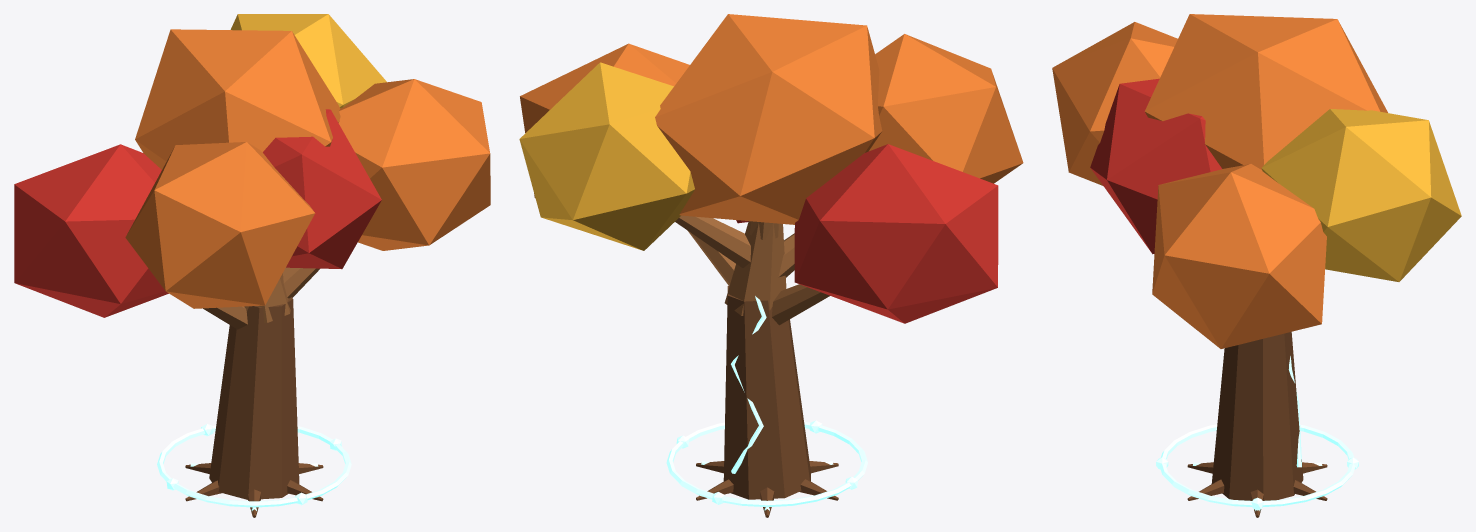
File: mature.glb
3 renders of one model, left to right at view 1: azimuth 30°, elevation 25°; view 2: azimuth 150°, elevation 25°; view 3: azimuth 270°, elevation 25°, orthographic. The views are drawn at different scales.
Visible parts, largest first — view 1: Autumn_Canopy_03, Autumn_Canopy_05, Autumn_Canopy_02, Autumn_Canopy_01, Trunk_Base, Autumn_Canopy_06, Autumn_Canopy_04, Chrono_Energy_Ring, Crown_Branch_02, Crown_Branch_01, Trunk_Crown; view 2: Autumn_Canopy_05, Autumn_Canopy_01, Autumn_Canopy_04, Autumn_Canopy_03, Trunk_Base, Autumn_Canopy_02, Trunk_Crown, Chrono_Energy_Ring, Crown_Branch_04, Crown_Branch_01, Crown_Branch_02, Chrono_Trunk_Vein; view 3: Autumn_Canopy_02, Autumn_Canopy_05, Autumn_Canopy_04, Trunk_Base, Autumn_Canopy_06, Autumn_Canopy_03, Chrono_Energy_Ring.
Boxes of the visible parts, x1,y1,x2,y2 form: Autumn_Canopy_03: (125, 142, 315, 308); Autumn_Canopy_05: (135, 29, 340, 169); Autumn_Canopy_02: (338, 79, 490, 250); Autumn_Canopy_01: (14, 144, 168, 317); Trunk_Base: (209, 297, 299, 499); Autumn_Canopy_06: (263, 109, 381, 269); Autumn_Canopy_04: (230, 14, 386, 108); Chrono_Energy_Ring: (157, 425, 351, 507); Crown_Branch_02: (283, 267, 319, 298); Crown_Branch_01: (203, 306, 247, 329); Trunk_Crown: (244, 273, 290, 322); Autumn_Canopy_05: (655, 14, 882, 224); Autumn_Canopy_01: (794, 144, 998, 323); Autumn_Canopy_04: (519, 62, 694, 250); Autumn_Canopy_03: (869, 34, 1023, 183); Trunk_Base: (723, 285, 810, 499); Autumn_Canopy_02: (520, 43, 689, 198); Trunk_Crown: (724, 221, 786, 315); Chrono_Energy_Ring: (666, 421, 867, 507); Crown_Branch_04: (675, 215, 750, 267); Crown_Branch_01: (772, 284, 829, 325); Crown_Branch_02: (687, 230, 735, 285); Chrono_Trunk_Vein: (731, 296, 766, 473); Autumn_Canopy_02: (1152, 163, 1326, 348); Autumn_Canopy_05: (1144, 14, 1387, 169); Autumn_Canopy_04: (1261, 109, 1461, 281); Trunk_Base: (1211, 332, 1303, 500); Autumn_Canopy_06: (1090, 78, 1221, 254); Autumn_Canopy_03: (1052, 22, 1177, 185); Chrono_Energy_Ring: (1159, 424, 1355, 506).
Size of the model in its own units: 3.76 by 3.45 by 2.83.
